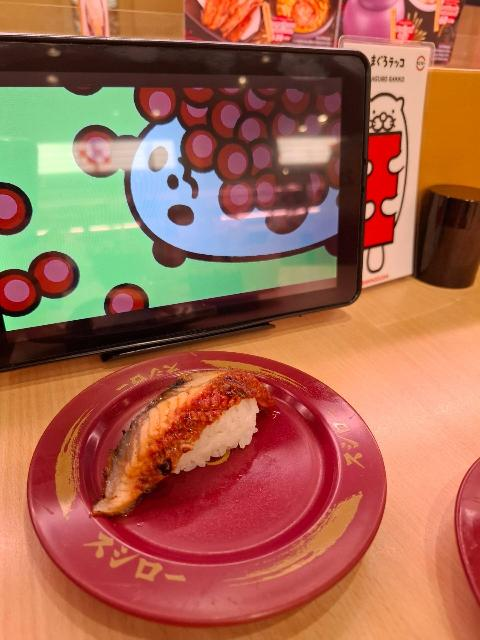janred: (30, 351, 388, 625), (450, 437, 480, 640)
